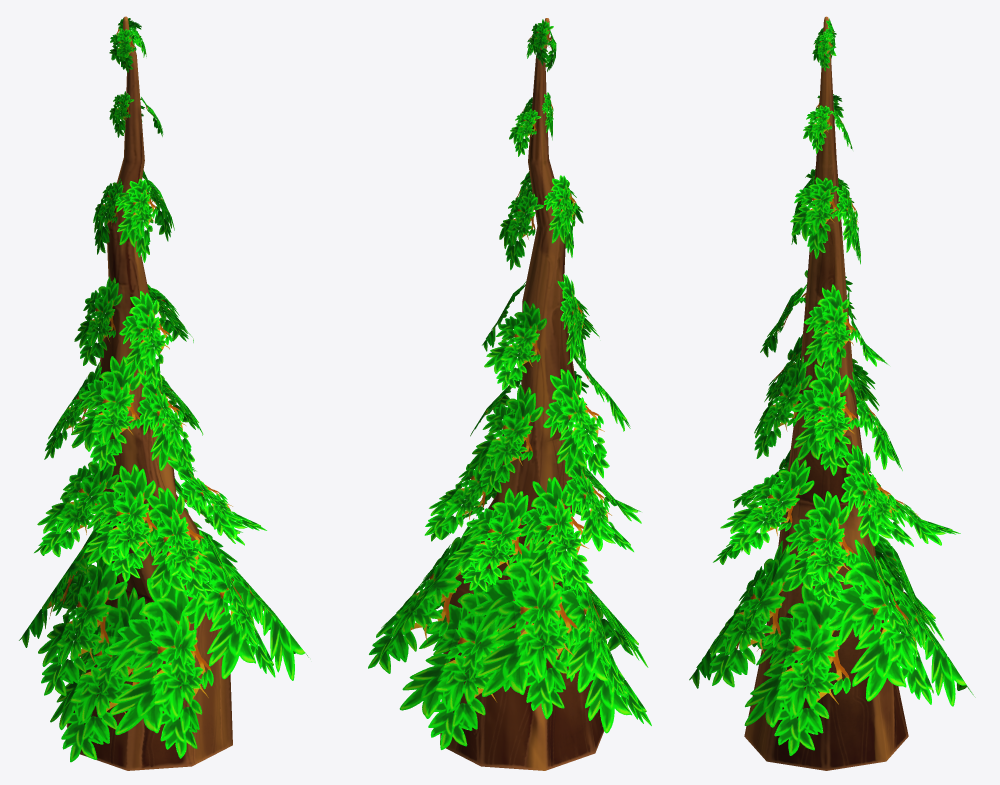
Rendered from 7_Verde_Claro.fbx.
3 renders of one model, left to right at view 1: azimuth 30°, elevation 25°; view 2: azimuth 150°, elevation 25°; view 3: azimuth 270°, elevation 25°, orthographic. The views are drawn at different scales.
Parts seen in each view (by area): view 1: 7_Verde_Claro; view 2: 7_Verde_Claro; view 3: 7_Verde_Claro.
Boxes of the visible parts, left/top/right/bottom form: 7_Verde_Claro: left=19, top=16, right=308, bottom=770; 7_Verde_Claro: left=368, top=18, right=651, bottom=770; 7_Verde_Claro: left=689, top=16, right=975, bottom=770.
Bounding box in the file's own units: 411 × 1081 × 415.
